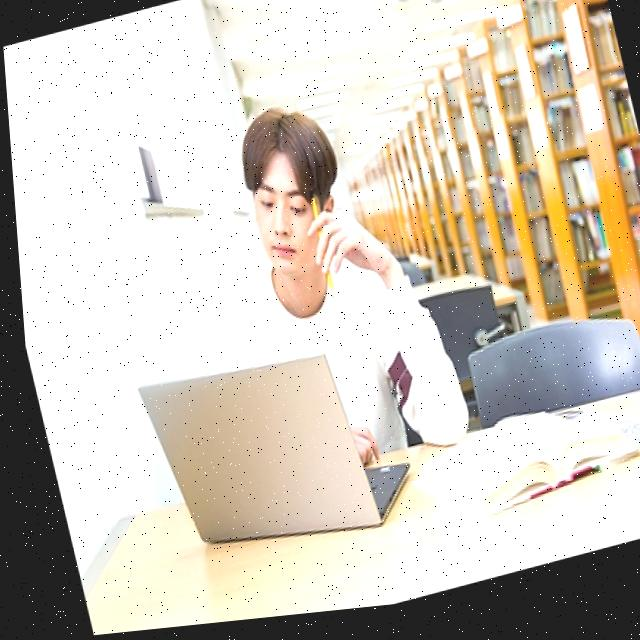studying-person: (65, 29, 640, 634)
